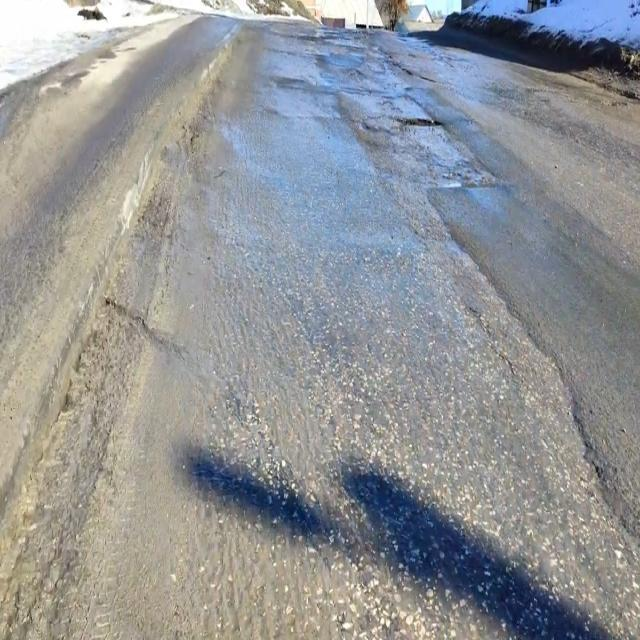Pothole: (394, 111, 454, 155)
